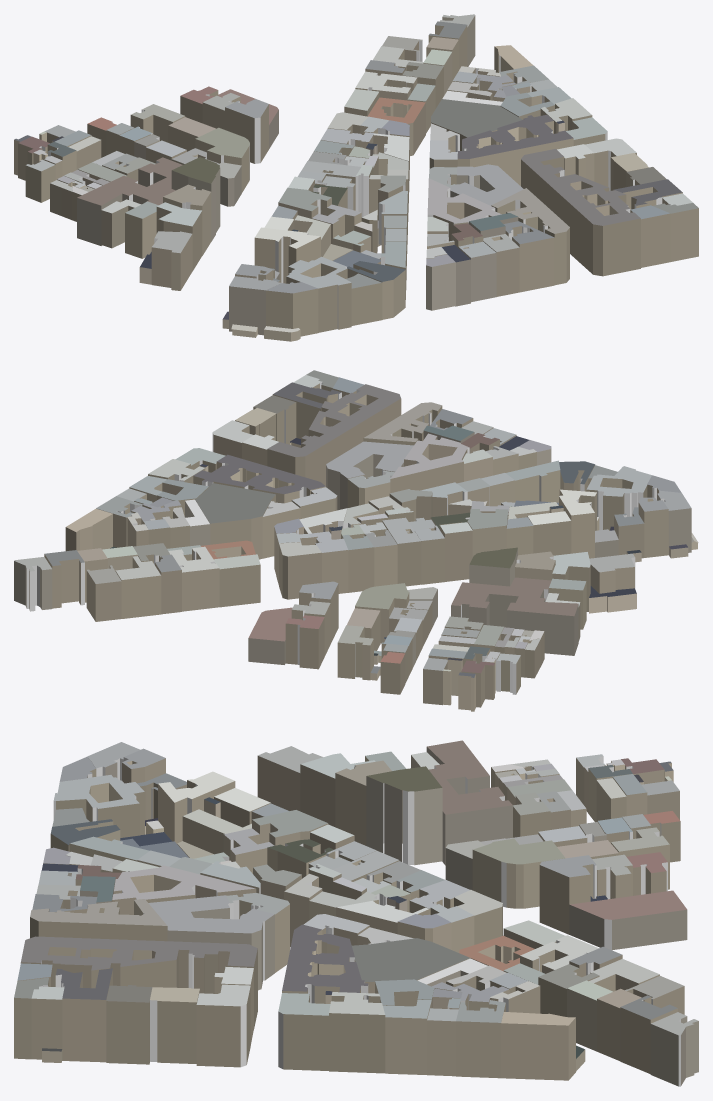
3 views of the same model, one above another, from view 1: azimuth 30°, elevation 25°; view 2: azimuth 150°, elevation 25°; view 3: azimuth 270°, elevation 25° (orthographic). The views are drawn at different scales.
Parts seen in each view (by area): view 1: tuile; view 2: tuile; view 3: tuile.
Boxes of the visible parts, x1,y1,x2,y2 form: tuile: (14,14,698,341); tuile: (14,370,698,711); tuile: (14,740,698,1086).
Bounding box in the file's own units: 268 × 31.97 × 261.
